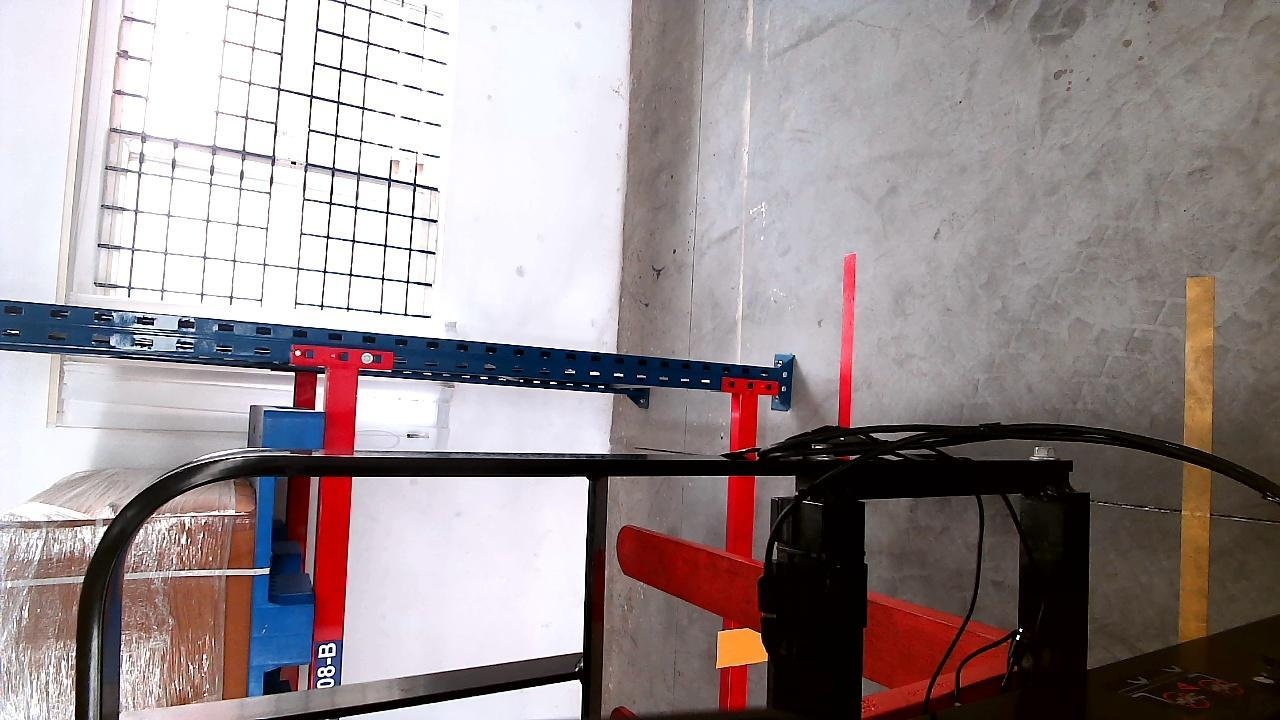red_line: (841, 250, 857, 423)
yellow_line: (1180, 272, 1213, 658)
